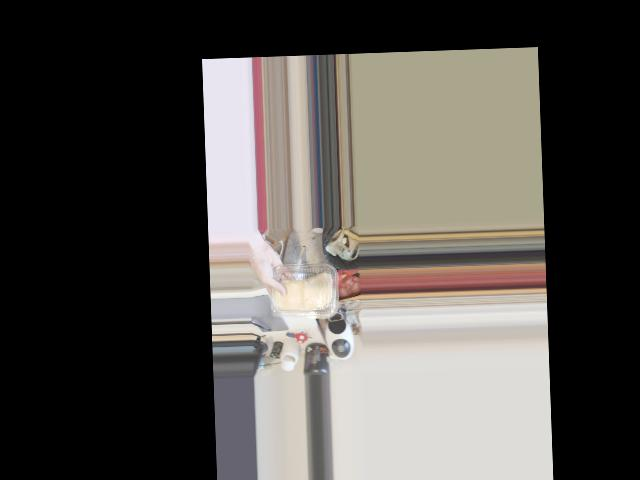cheese: (272, 259, 334, 325)
